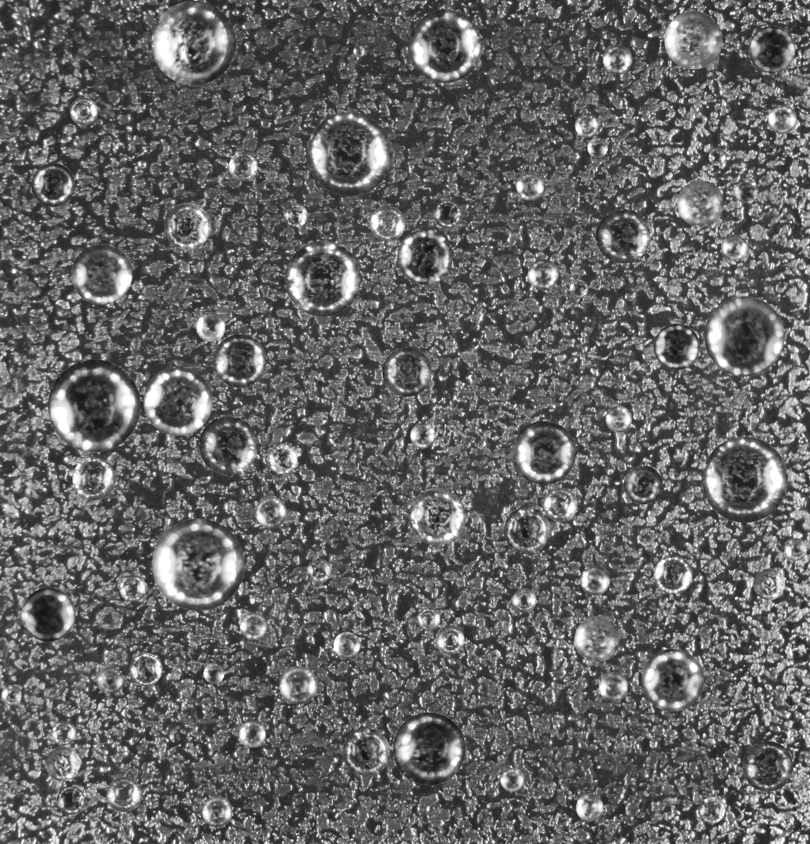Bubble: (47, 359, 140, 452), (152, 518, 244, 610), (702, 436, 787, 522), (151, 0, 235, 85), (307, 111, 391, 196), (704, 296, 784, 376), (285, 241, 360, 316), (408, 9, 481, 82), (393, 712, 465, 785), (143, 366, 212, 435), (512, 421, 575, 484), (641, 649, 704, 711), (71, 244, 132, 304), (664, 11, 722, 69), (199, 416, 257, 474), (408, 488, 465, 545), (397, 229, 452, 284), (21, 587, 75, 641), (596, 209, 650, 263), (213, 334, 266, 387), (742, 741, 793, 791), (382, 347, 431, 396), (342, 728, 390, 775), (164, 202, 211, 249), (748, 26, 795, 72), (677, 180, 724, 226), (504, 507, 550, 553), (653, 323, 699, 369), (574, 616, 620, 662), (72, 457, 115, 500), (31, 163, 74, 206), (623, 465, 662, 504), (653, 555, 692, 594), (279, 666, 317, 704), (370, 206, 405, 241), (106, 777, 141, 812), (45, 746, 80, 781), (543, 487, 577, 521), (129, 653, 162, 686), (753, 568, 785, 600), (255, 496, 286, 528), (527, 259, 558, 290), (201, 796, 232, 827), (267, 443, 297, 473), (580, 565, 609, 595), (602, 45, 632, 74), (598, 672, 628, 701), (435, 625, 464, 654), (196, 312, 225, 341), (228, 151, 257, 180), (768, 104, 797, 133), (56, 786, 85, 814), (433, 200, 461, 228), (516, 172, 544, 200), (69, 97, 97, 125), (239, 612, 267, 640), (576, 794, 603, 821), (119, 574, 146, 601), (238, 720, 265, 747), (96, 667, 123, 694), (333, 631, 360, 658), (698, 797, 725, 823), (605, 406, 632, 432), (721, 234, 747, 261), (410, 423, 435, 448), (306, 558, 331, 583), (734, 179, 759, 203), (51, 721, 76, 745), (500, 767, 524, 791), (283, 203, 307, 227), (512, 588, 536, 612), (575, 113, 598, 137), (417, 607, 440, 630), (784, 538, 806, 560), (203, 663, 224, 683), (1, 685, 21, 705), (587, 137, 607, 157), (569, 279, 588, 298), (708, 147, 726, 165), (353, 45, 364, 57)
